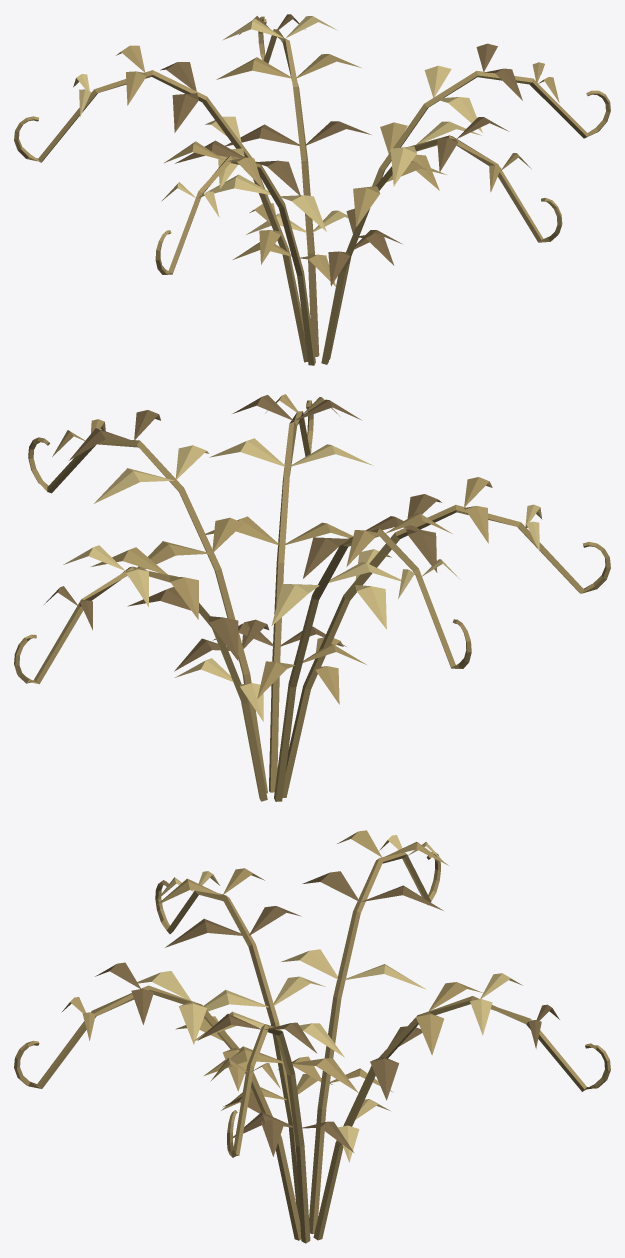
File: DESERT_FERN.lo.glb
3 views of the same model, one above another, from view 1: azimuth 30°, elevation 25°; view 2: azimuth 150°, elevation 25°; view 3: azimuth 270°, elevation 25° (orthographic). The views are drawn at different scales.
Visible parts, largest first — view 1: DESERT_FERN; view 2: DESERT_FERN; view 3: DESERT_FERN.
Boxes of the visible parts, bbox=[...] form: DESERT_FERN: bbox=[14, 14, 610, 365]; DESERT_FERN: bbox=[14, 394, 610, 801]; DESERT_FERN: bbox=[14, 830, 610, 1243].
Bounding box in the file's own units: 0.5976 × 0.3563 × 0.5916.
1 material, 1 textured.
